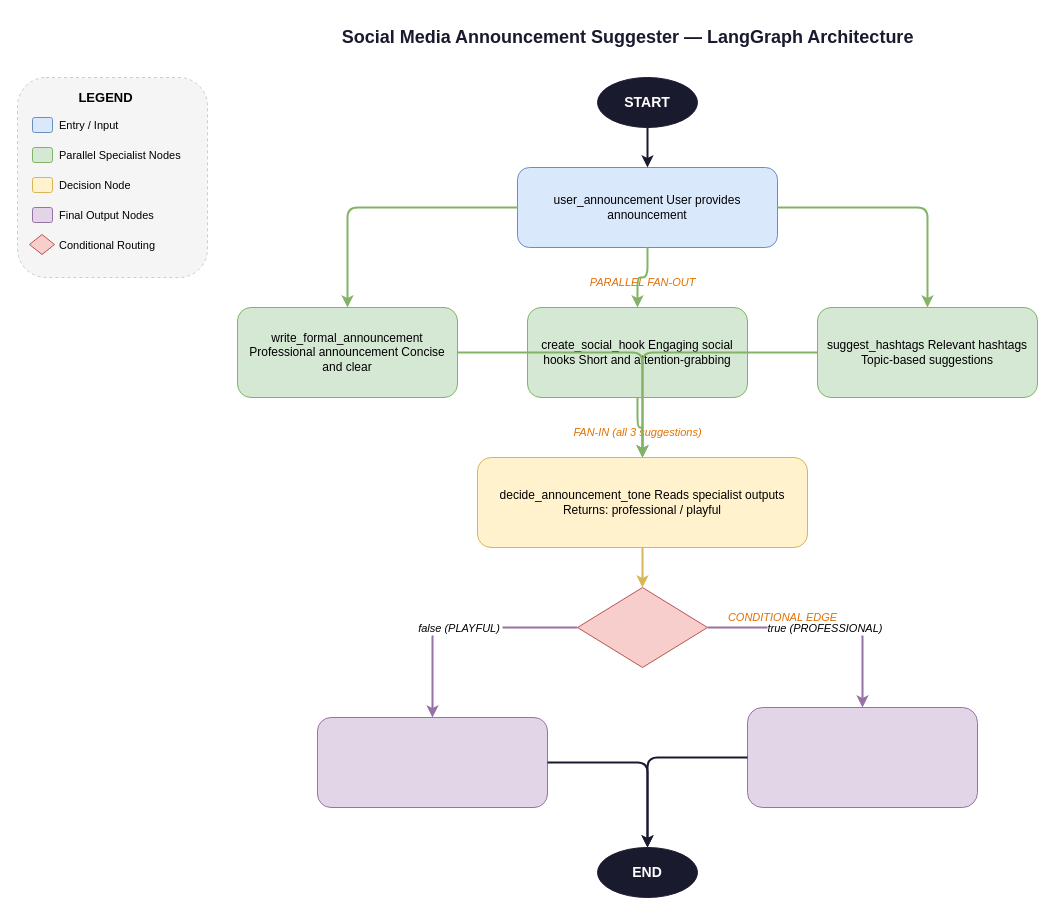
This 1055x915 diagram has some shape labels left out. Each missing label, with the centre of its shape:
"instagram_style_post Casual and playful Warm and engaging" belongs at (x=862, y=757).
"linkedin_style_post Professional tone Humble and concise" belongs at (x=432, y=762).
"professional? true / false" belongs at (x=642, y=627).
